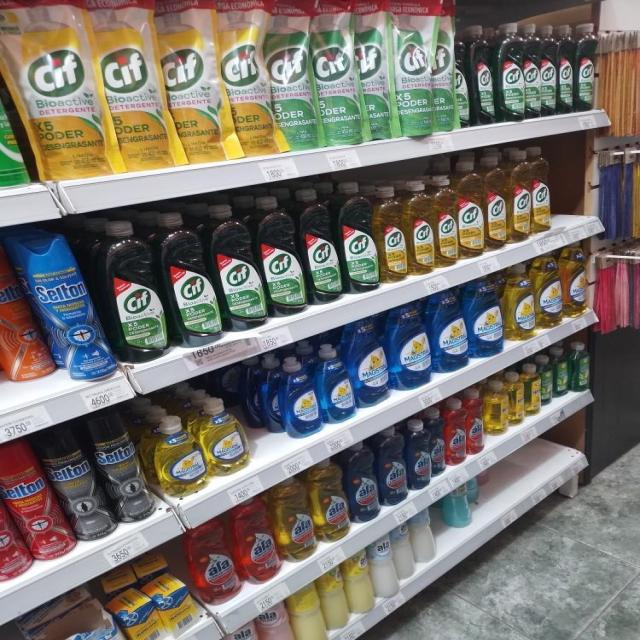ala_conc_amarillo: (276, 477, 314, 563), (314, 460, 347, 542)
ala_conc_azul: (348, 442, 378, 524), (378, 426, 406, 506), (408, 419, 430, 490), (431, 411, 444, 478)
ala_conc_rojo: (188, 521, 236, 605), (236, 500, 277, 584), (445, 397, 466, 466), (466, 386, 484, 456)
ala_crem_amarillo: (292, 582, 322, 640), (347, 549, 372, 615), (323, 566, 347, 631)
ala_crem_blanco: (372, 534, 396, 600), (413, 509, 435, 564), (395, 522, 414, 584)
ala_crem_rosado: (259, 602, 291, 640), (229, 621, 259, 640)
cif_conc_bot_amarilla: (377, 185, 406, 283), (406, 180, 434, 276), (458, 157, 484, 260), (434, 175, 458, 268), (508, 148, 531, 242), (485, 152, 507, 250), (532, 145, 552, 236)
cif_conc_botella_verde: (105, 219, 167, 363), (168, 212, 220, 347), (216, 203, 264, 331), (262, 195, 304, 316), (303, 188, 341, 304), (341, 182, 378, 293), (496, 23, 523, 122), (470, 23, 495, 126), (575, 22, 596, 113), (540, 23, 557, 117), (455, 24, 470, 130), (523, 23, 539, 119), (558, 23, 574, 115)
cif_conc_sachet_amarillo: (14, 0, 102, 180), (102, 0, 166, 172), (166, 0, 224, 166), (223, 0, 271, 157)
cif_conc_sachet_verde: (271, 0, 316, 151), (316, 0, 362, 146), (394, 0, 433, 137), (360, 0, 393, 141), (433, 0, 455, 133)
heroe: (484, 380, 508, 436), (570, 342, 591, 392), (508, 372, 524, 426), (525, 362, 541, 416), (555, 346, 570, 396), (541, 354, 554, 404)
magistral_con_amarillo: (154, 414, 204, 499), (202, 396, 248, 476), (505, 263, 534, 341), (535, 252, 562, 330), (563, 244, 587, 318)
magistral_con_azul: (388, 302, 429, 391), (351, 316, 387, 408), (281, 356, 319, 438), (467, 277, 503, 359), (432, 289, 466, 373), (319, 343, 353, 424)
